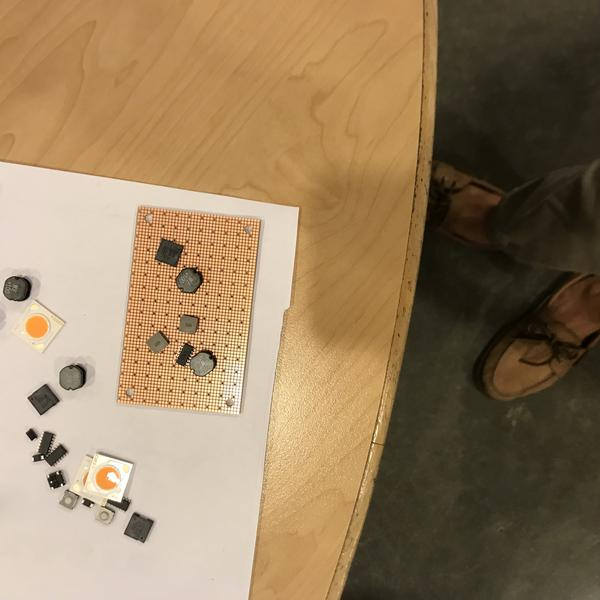board: (115, 206, 261, 417)
